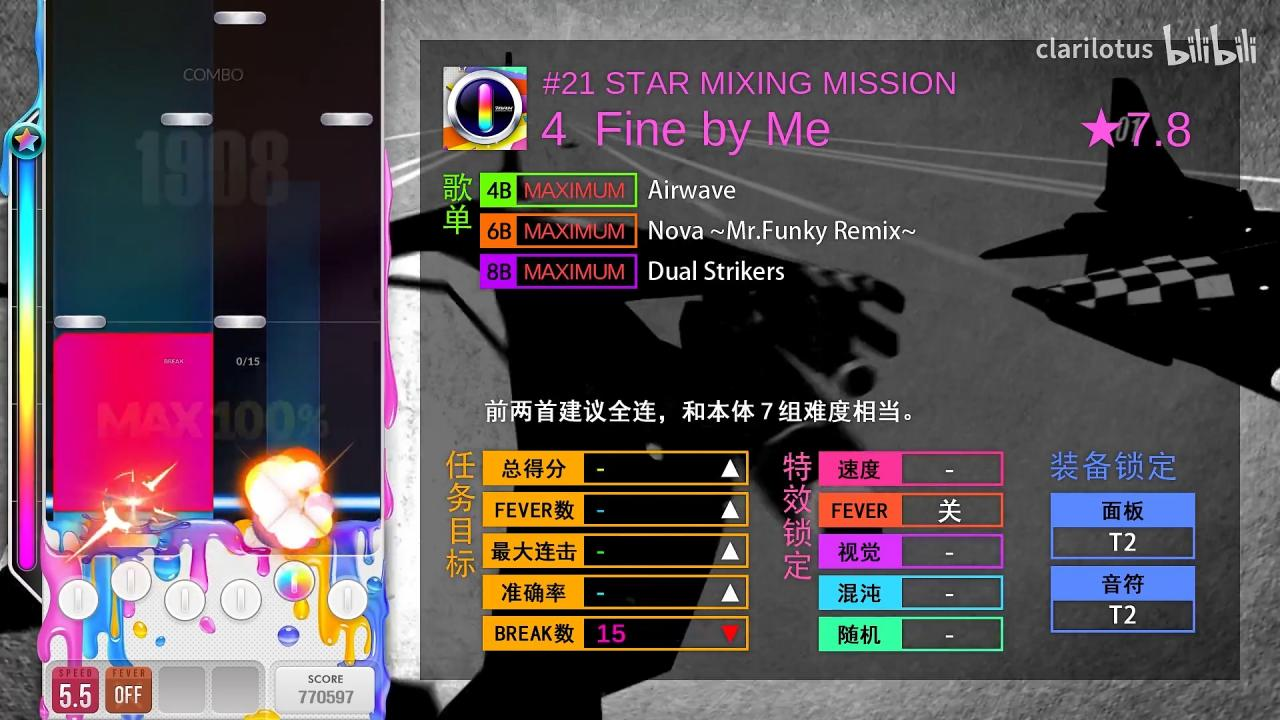note: (321, 112, 373, 126), (161, 112, 213, 126), (214, 12, 266, 25), (54, 316, 106, 329), (214, 316, 266, 329)
xend: (53, 333, 214, 348)
